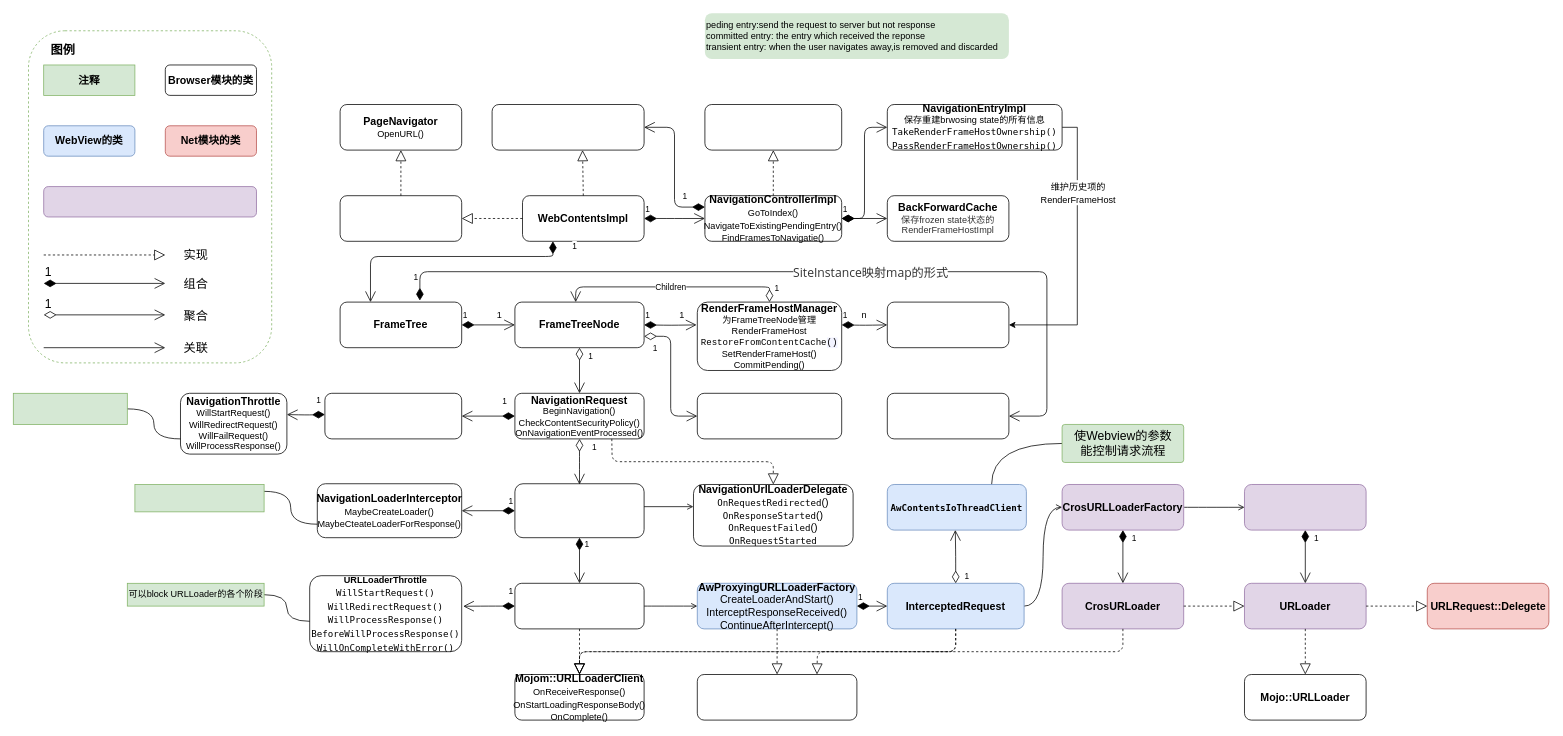
The diagram is 1563 pixels wide and 736 high, and some of its shapes have lost their labels. The shapes that lost their labels are listed below. From the top down, each one's box as (x1, y1, x2, y2) in pixels, then its label:
(491, 104, 644, 150): NavigationControllerDelegate
(704, 104, 842, 150): NavigationController LoadURL() GoBack() GoForward()
(43, 186, 256, 217): NetworkService的类
(339, 195, 462, 241): WebContents
(887, 301, 1009, 348): RenderFrameHost(Impl)
(13, 393, 127, 424): 可以deffer、cancel、block 住NavigationRequest的各个阶段
(324, 393, 462, 439): NavigationThrottleRunner RegisterNavigationThrottles() ExecuteNavigationEvent()
(697, 393, 842, 439): Navigator(Impl) 为FrameTreeNode执Navigations DidNavigate() Navigate()
(887, 393, 1009, 439): FrameViewHostImpl （会创建Renderer进程，负责加载网页、调整显示以及其他浏览功能）
(134, 484, 264, 512): 可以自定义Loader过程，而不走ThrottlingURLLoader的过程
(514, 483, 644, 538): NavigationUrlLoaderImpl Create() OnReceiveResponse() OnComplete()
(1244, 484, 1366, 530): URLLoaderFactory
(514, 583, 644, 629): ThrottlingURLLoader
(697, 674, 857, 720): mojom::URLLoaderFactory CreateLoaderAndStart() Clone()
